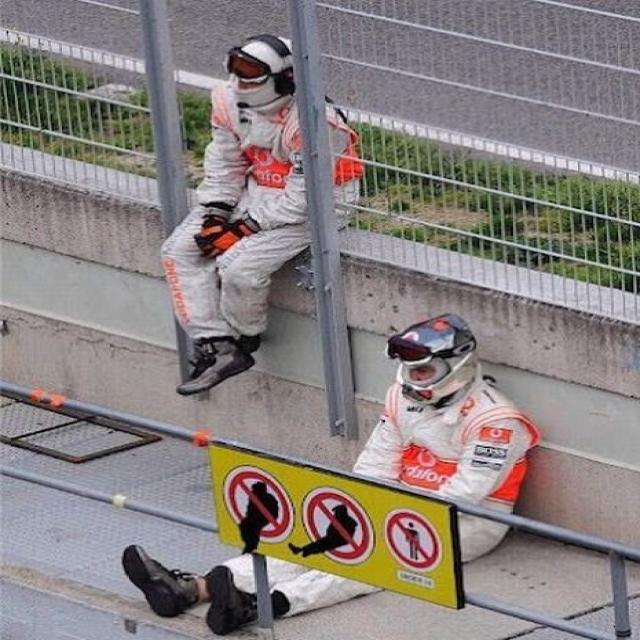loitering: (82, 304, 552, 635), (136, 22, 364, 410)
